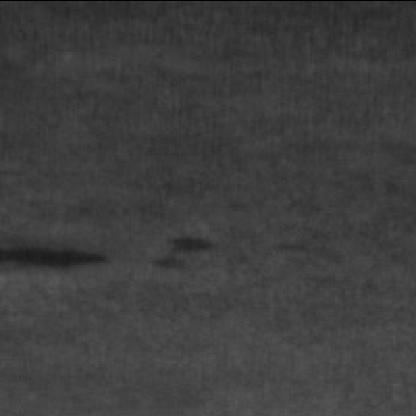inclusion: (0, 243, 108, 285), (144, 233, 220, 281)
